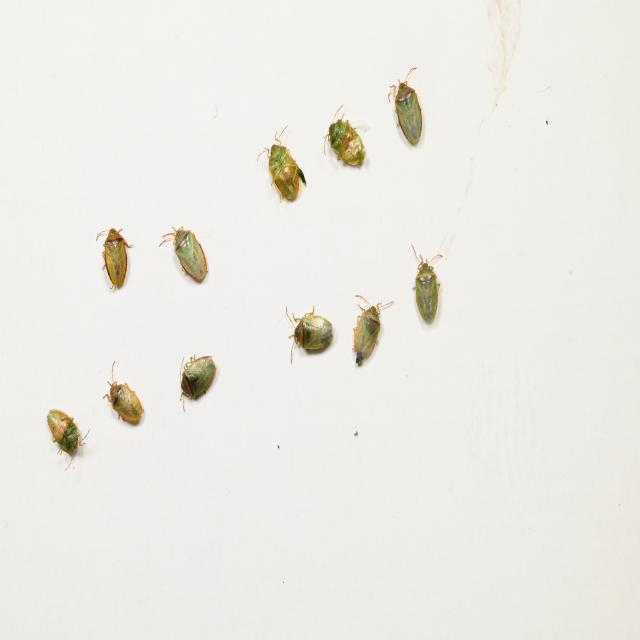stinkbug: (255, 124, 307, 207), (158, 222, 208, 290), (284, 306, 334, 364), (410, 244, 443, 329), (103, 361, 146, 426), (388, 67, 423, 146), (44, 407, 90, 465), (96, 225, 133, 291), (178, 353, 216, 412)
